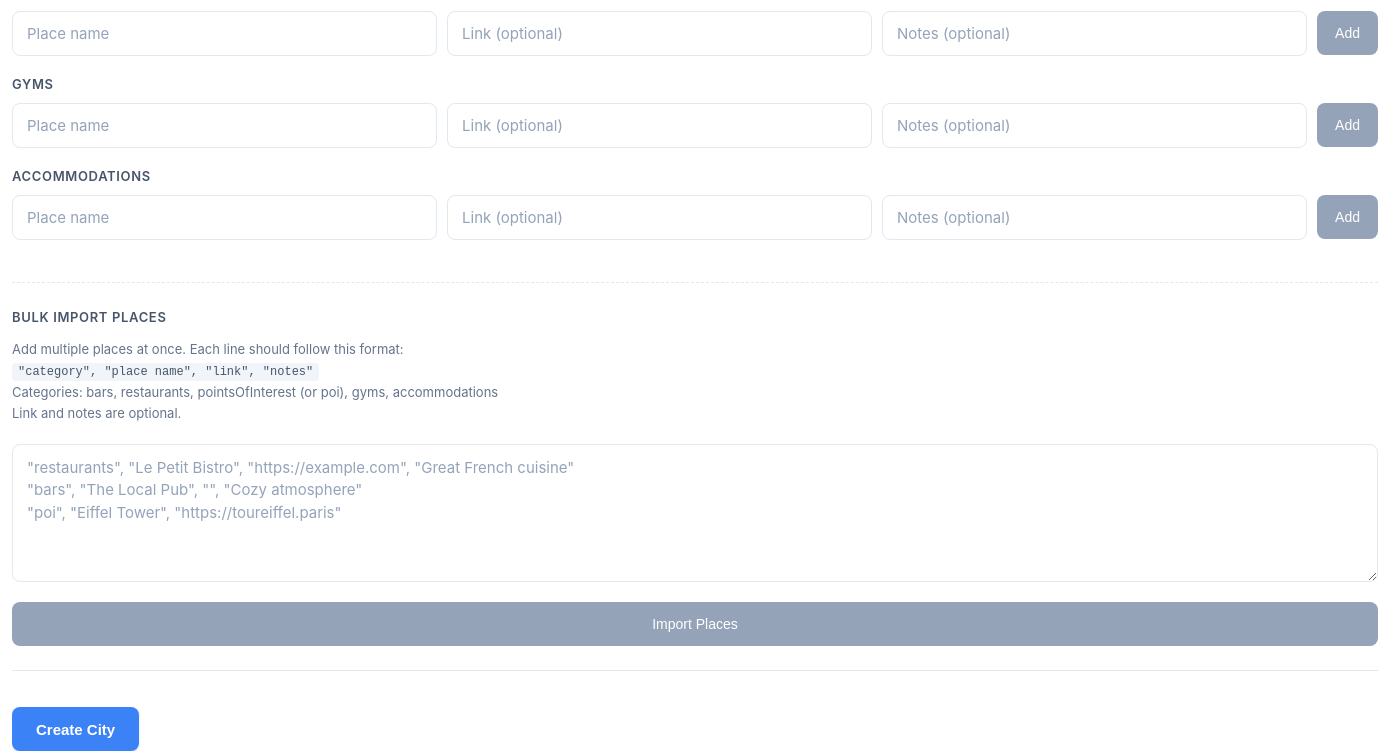
Test: CityForm › displays validation errors for empty required fields
(page scrolled)
Submit form without filling any fields
Click the button "Create City" at (76, 729), box [12,707,139,750]
(page scrolled)
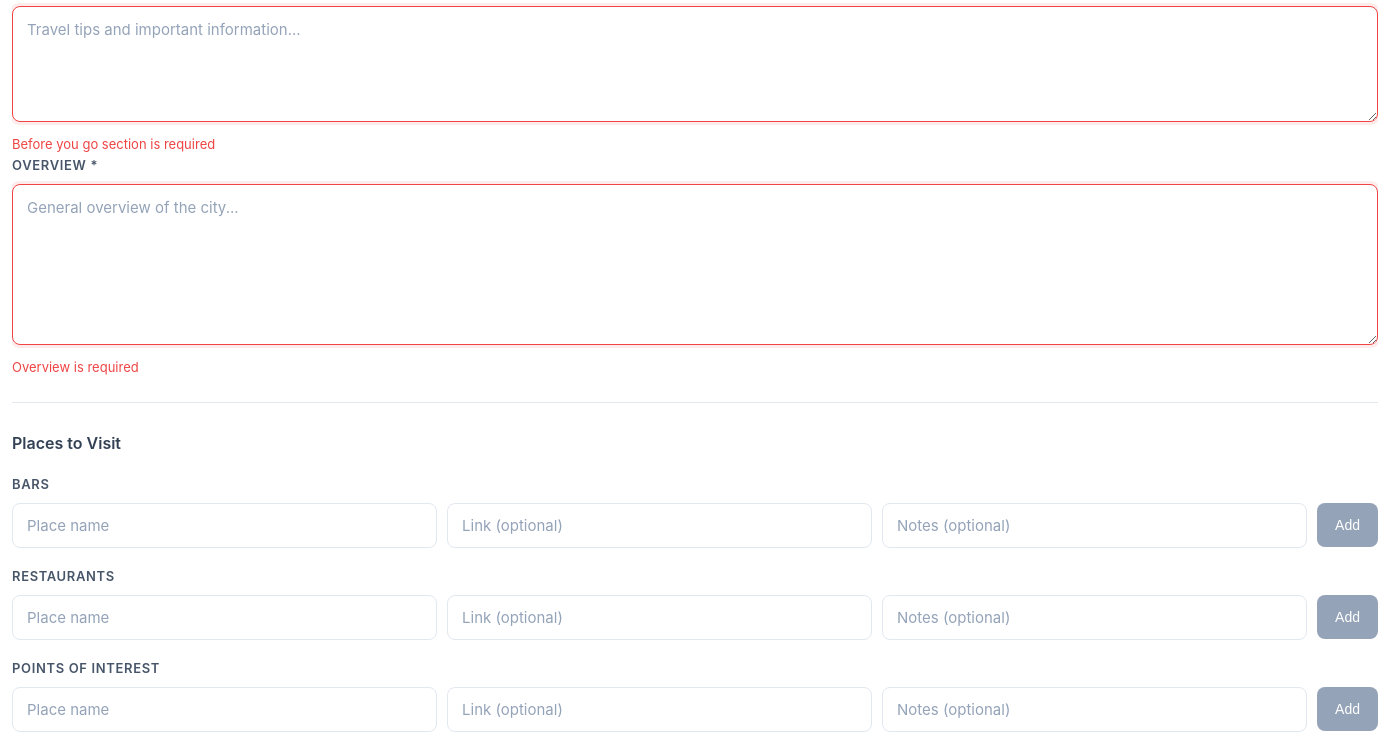
Expected: the text "Before you go section is required" is shown, [12,136,215,152]
Expected: the text "Overview is required" is shown, [12,359,139,375]
